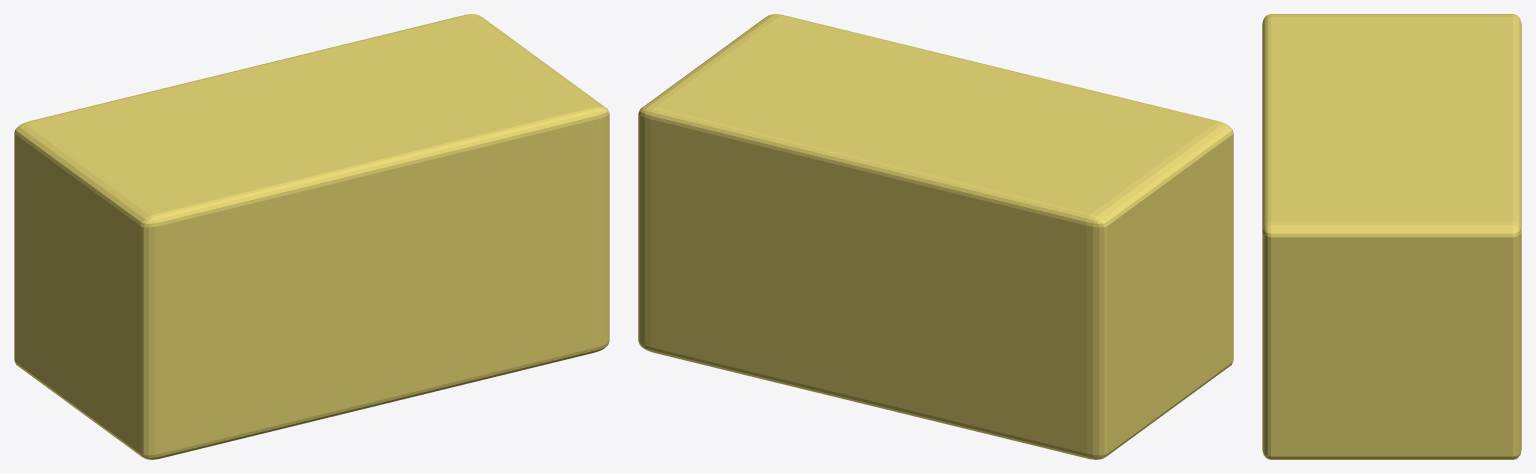
The model's file is сено.fbx.
3 views of the same model, side by side, from view 1: azimuth 30°, elevation 25°; view 2: azimuth 150°, elevation 25°; view 3: azimuth 270°, elevation 25° (orthographic). The views are drawn at different scales.
Visible parts, largest first — view 1: сено; view 2: сено; view 3: сено.
Part boxes in pixels (x1,y1,x2,y2): сено: (14,14,609,459); сено: (638,14,1233,459); сено: (1262,14,1521,459).
Bounding box in the file's own units: 1805 × 901 × 901.
